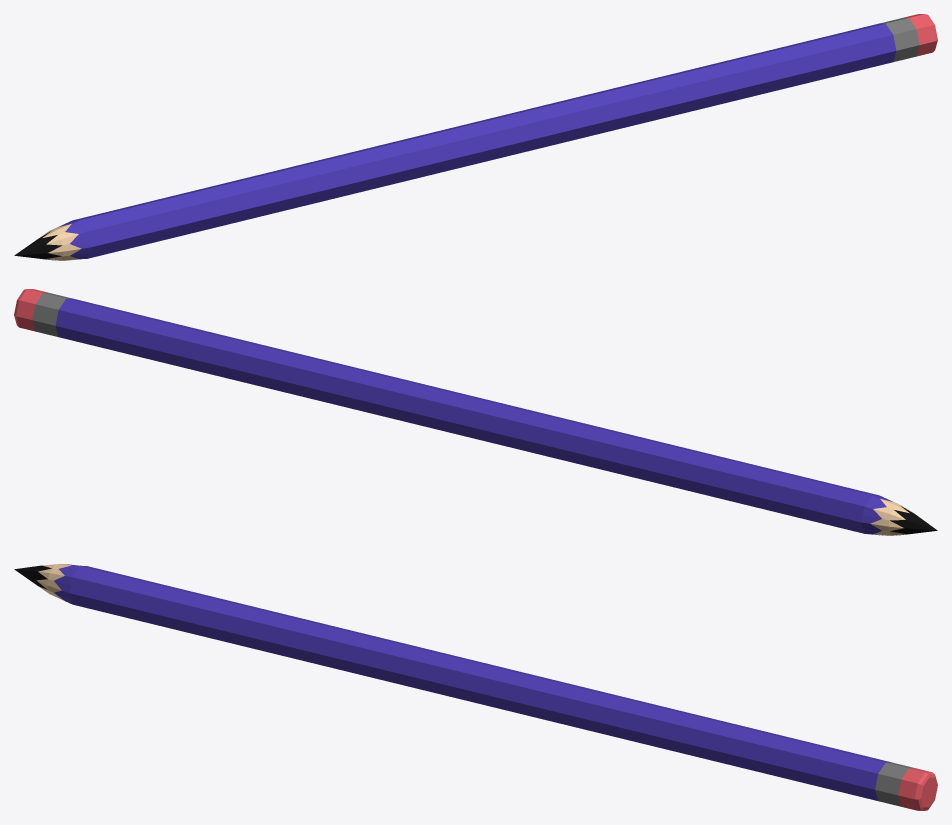
File: Pencil_blue.fbx
3 views of the same model, one above another, from view 1: azimuth 30°, elevation 25°; view 2: azimuth 150°, elevation 25°; view 3: azimuth 330°, elevation 25° (orthographic).
Visible parts, largest first — view 1: Cone.003; view 2: Cone.003; view 3: Cone.003.
Part boxes in pixels (left/top/right/bottom): Cone.003: left=14, top=14, right=937, bottom=260; Cone.003: left=14, top=289, right=937, bottom=535; Cone.003: left=14, top=564, right=937, bottom=810.
Bounding box in the file's own units: 29.84 × 1.21 × 1.21.
